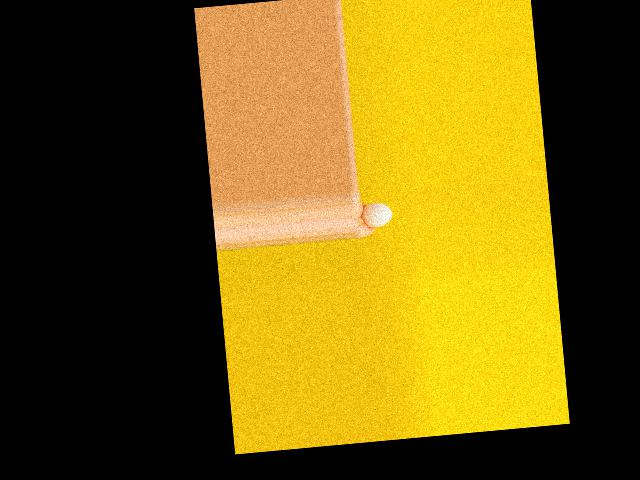egg: (360, 202, 393, 228)
